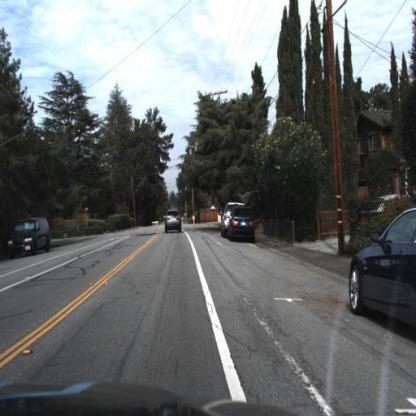car: (349, 208, 416, 339), (3, 209, 61, 268), (8, 211, 52, 259), (226, 202, 260, 248), (225, 205, 256, 245), (161, 202, 187, 238), (221, 197, 236, 241)
